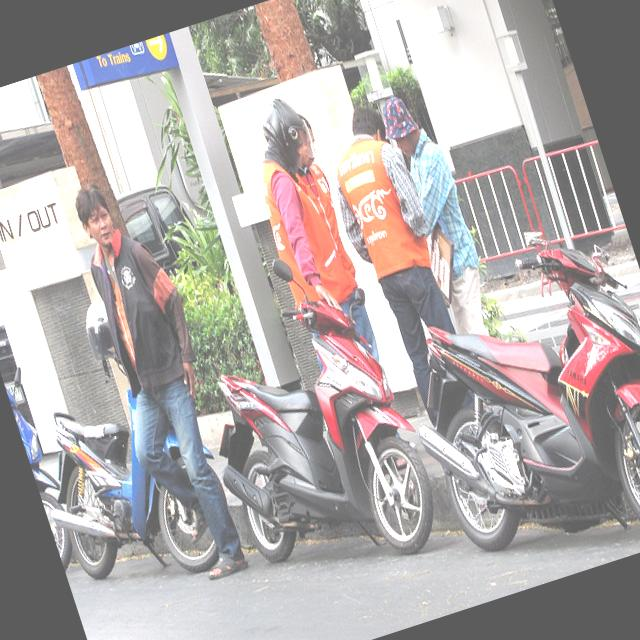Vehicle: (162, 234, 452, 599), (371, 218, 640, 594), (0, 173, 239, 417), (21, 368, 248, 610), (0, 305, 38, 434)
